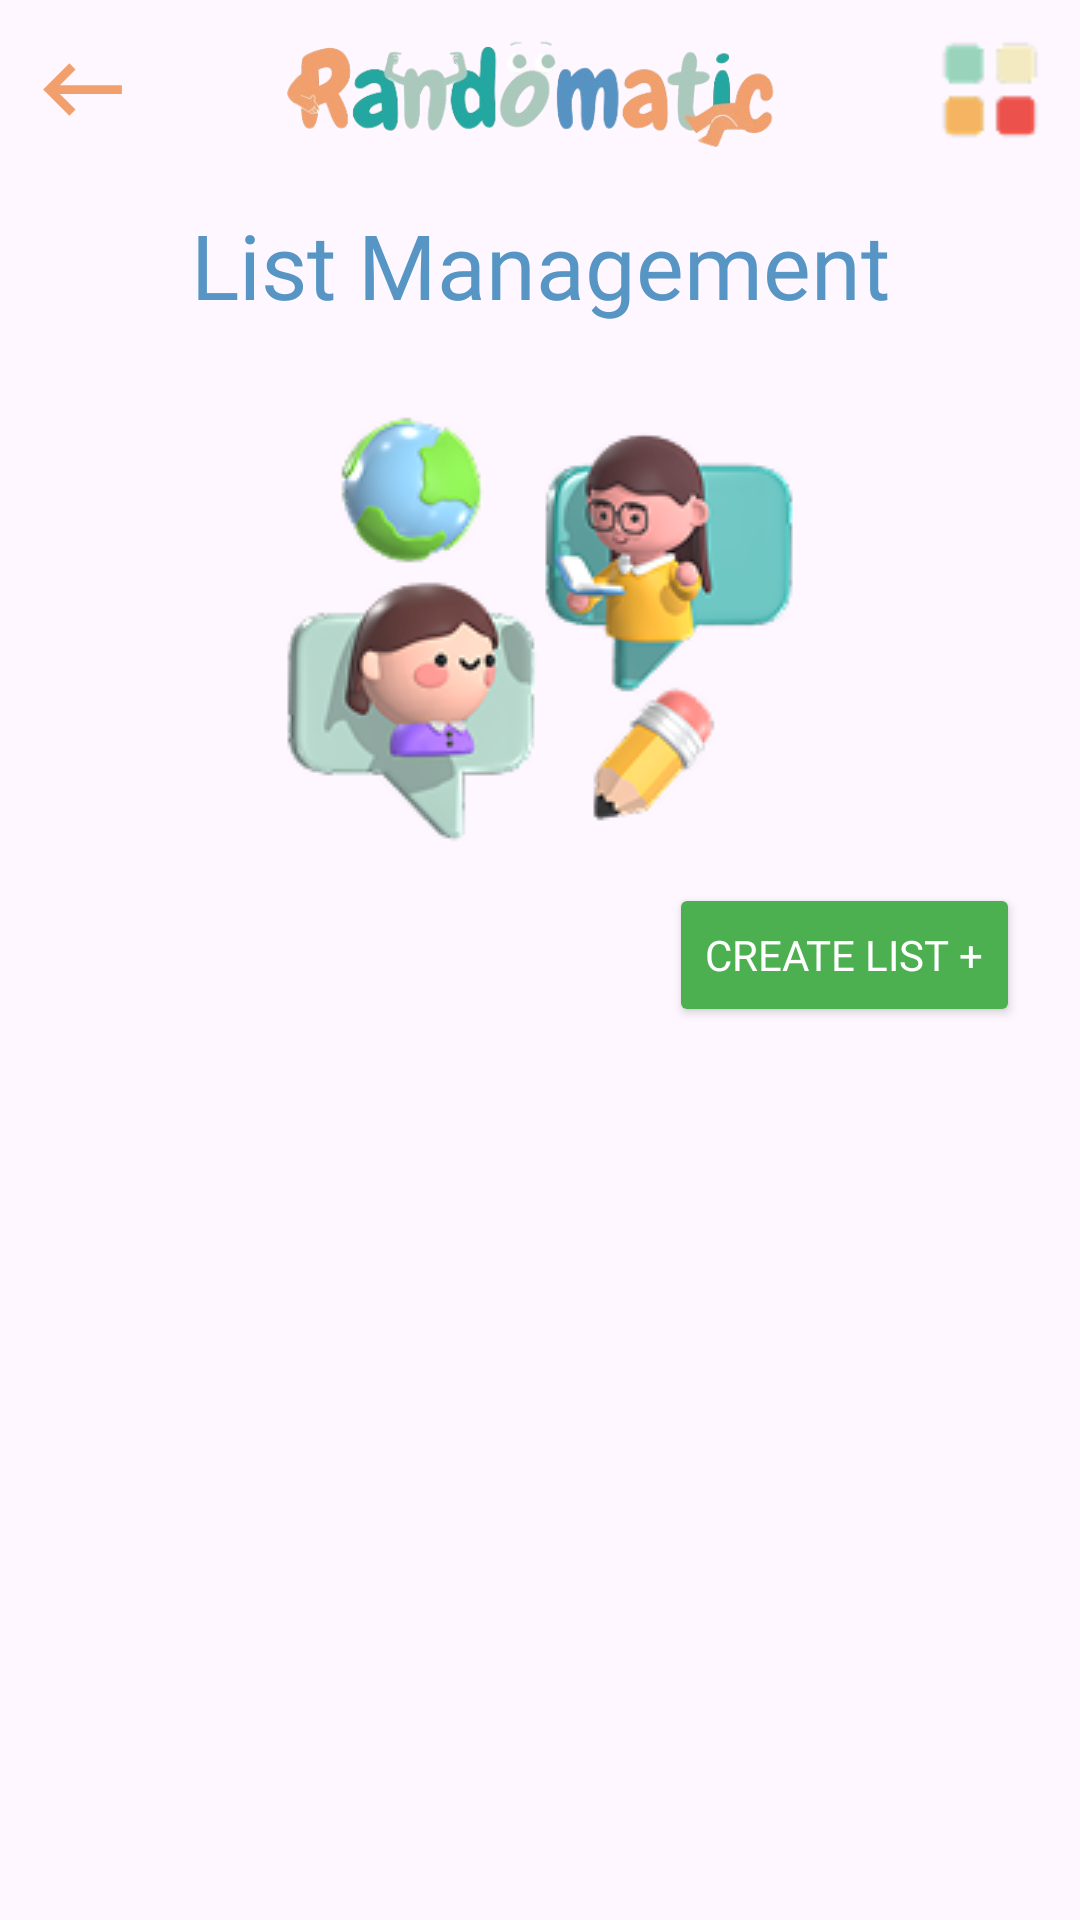

Icon click points for this 1080 × 1920 phone screenshot, format (x,y):
keyboard backspace: (82,89)
